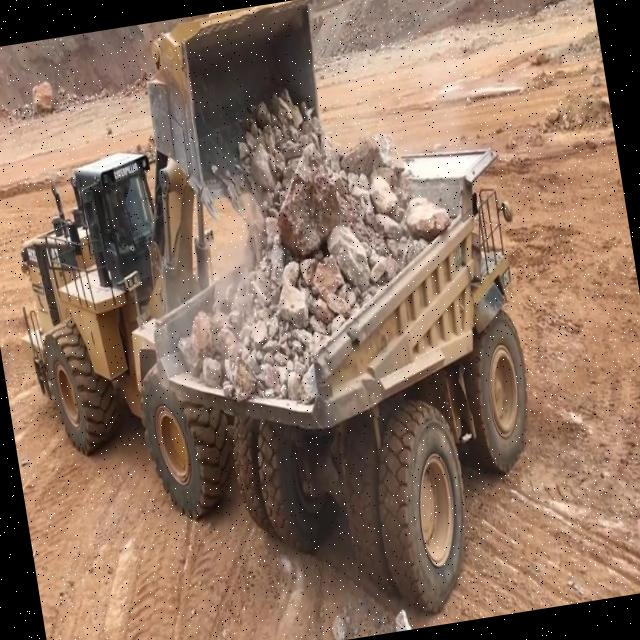Dump Truck: (120, 121, 573, 640)
Loader: (0, 0, 393, 479)
